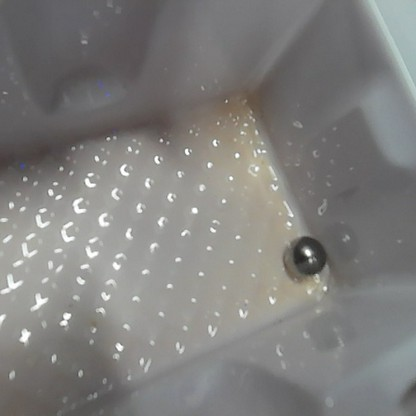ironball: (284, 234, 331, 283)
